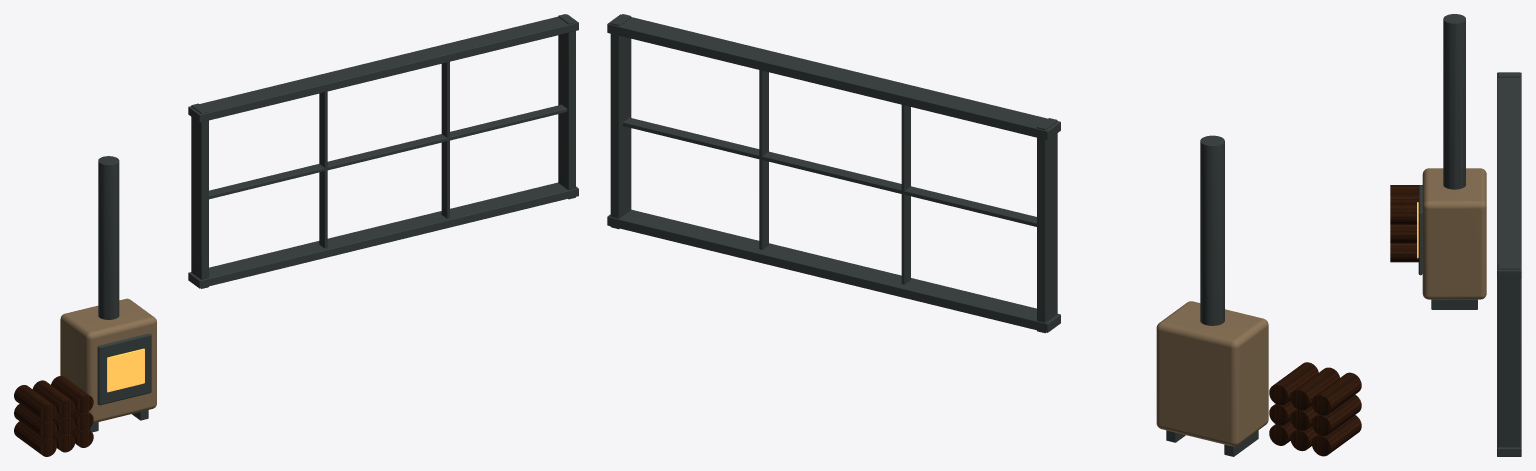
Rendered from north.glb.
3 renders of one model, left to right at view 1: azimuth 30°, elevation 25°; view 2: azimuth 150°, elevation 25°; view 3: azimuth 270°, elevation 25°, orthographic. The views are drawn at different scales.
Visible parts, largest first — view 1: mountain-cabin north; view 2: mountain-cabin north; view 3: mountain-cabin north.
Boxes of the visible parts, x1=… form: mountain-cabin north: x1=14, y1=14, x2=578, y2=456; mountain-cabin north: x1=607, y1=14, x2=1361, y2=456; mountain-cabin north: x1=1390, y1=14, x2=1521, y2=456.
Size of the model in its own units: 7.06 by 3.01 by 1.27.
Materials: 5 (1 with a texture image).
